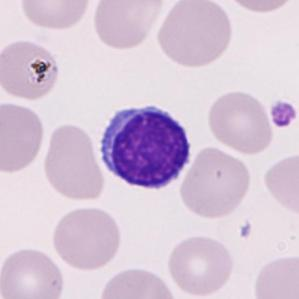Lymphocyte: (93, 98, 197, 194)
Platelets: (266, 98, 298, 130), (28, 54, 56, 86), (237, 220, 252, 240)
RBC: (176, 144, 254, 220), (154, 0, 234, 69), (40, 121, 106, 203), (49, 204, 123, 272), (205, 88, 276, 156), (164, 232, 236, 298), (0, 36, 63, 103), (90, 0, 166, 52), (0, 244, 68, 299), (0, 100, 47, 175), (96, 264, 180, 299), (260, 150, 298, 216), (18, 0, 93, 32), (250, 251, 298, 299), (219, 0, 298, 15)
